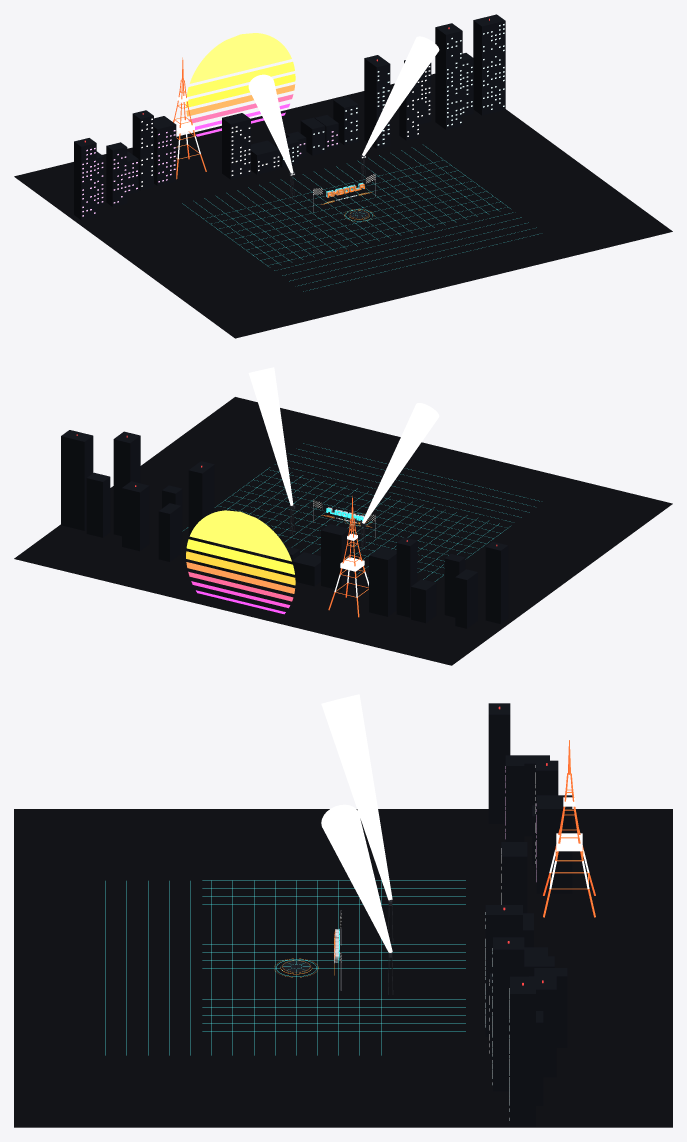
File: title.glb
3 renders of one model, top to bottom at view 1: azimuth 30°, elevation 25°; view 2: azimuth 150°, elevation 25°; view 3: azimuth 270°, elevation 25°, orthographic. The views are drawn at different scales.
Visible parts, largest first — view 1: Floor, City, Sun, Grid, BeamR, Windows, BeamL, TokyoTower; view 2: Floor, City, Sun, BeamR, BeamL, Grid, TokyoTower; view 3: Floor, City, Grid, BeamL, BeamR, TokyoTower.
Boxes of the visible parts, left/top/right/bottom form: Floor: left=14, top=73, right=672, bottom=338; City: left=74, top=14, right=505, bottom=220; Sun: left=186, top=33, right=295, bottom=136; Grid: left=182, top=146, right=538, bottom=291; BeamR: left=362, top=36, right=439, bottom=155; Windows: left=82, top=18, right=504, bottom=216; BeamL: left=248, top=74, right=293, bottom=173; TokyoTower: left=173, top=57, right=206, bottom=179; Floor: left=14, top=397, right=672, bottom=665; City: left=61, top=430, right=508, bottom=628; Sun: left=186, top=510, right=295, bottom=614; BeamR: left=248, top=367, right=293, bottom=505; BeamL: left=362, top=403, right=439, bottom=523; Grid: left=183, top=443, right=539, bottom=581; TokyoTower: left=328, top=496, right=368, bottom=617; Floor: left=14, top=809, right=672, bottom=1127; City: left=485, top=703, right=572, bottom=1126; Grid: left=105, top=880, right=465, bottom=1055; BeamL: left=321, top=694, right=392, bottom=900; BeamR: left=321, top=804, right=392, bottom=952; TokyoTower: left=543, top=740, right=595, bottom=917.
Size of the model in its own units: 160 by 50.95 by 140.
